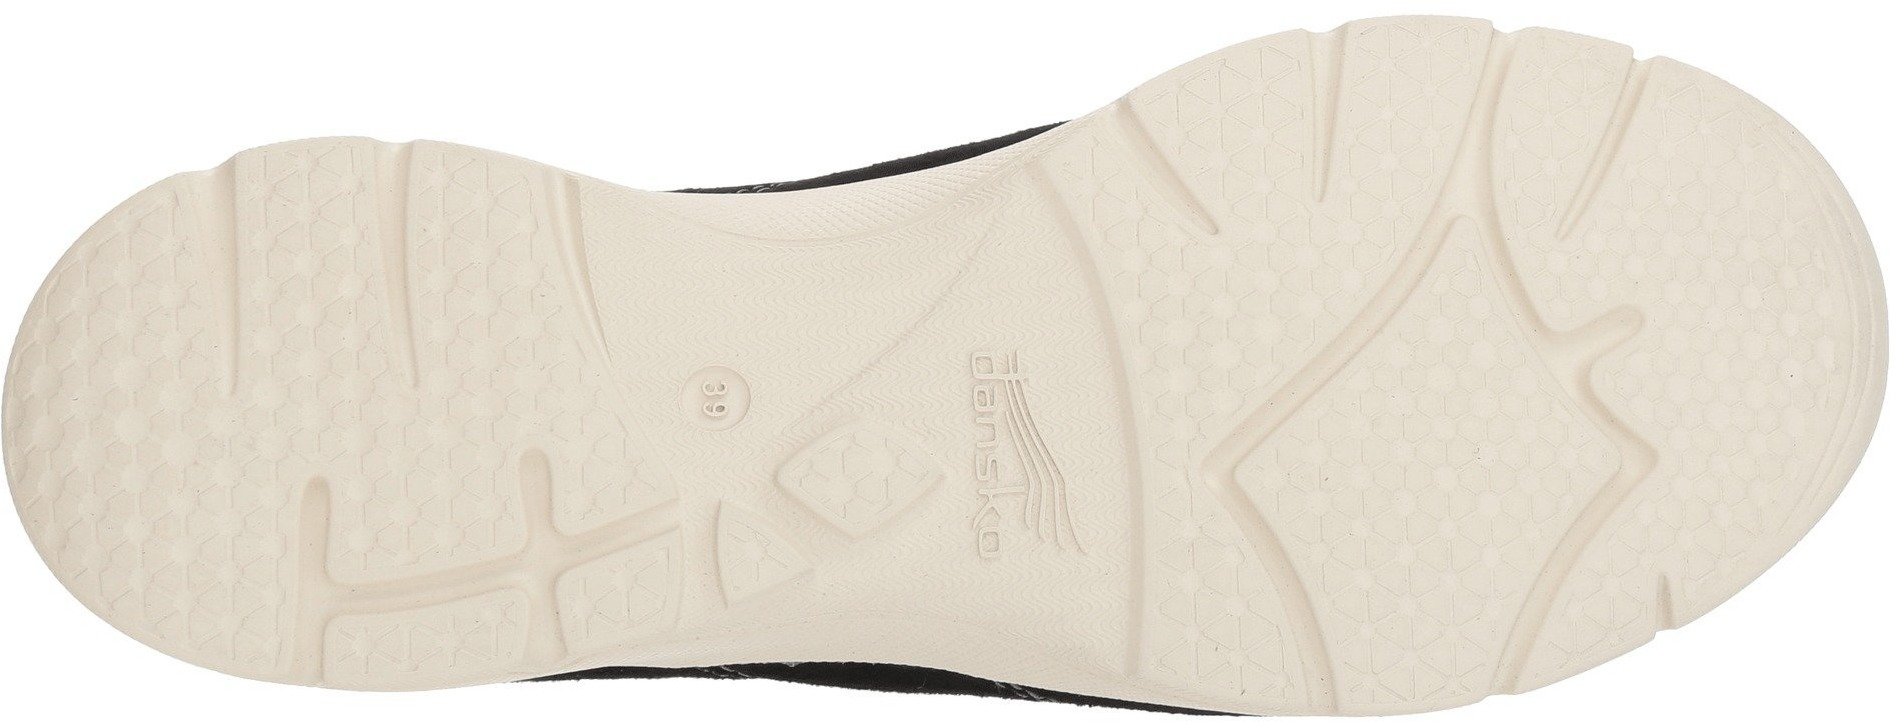exclude: (534, 0, 1146, 243)
other: (763, 246, 944, 420)
polygon: (1325, 387, 1540, 578), (90, 403, 281, 591), (331, 377, 514, 565), (220, 180, 404, 357), (1643, 227, 1826, 399), (1134, 244, 1282, 386), (1181, 68, 1305, 183)
text: (950, 483, 1036, 564), (961, 337, 1040, 416), (955, 416, 1030, 486), (682, 370, 745, 429)
